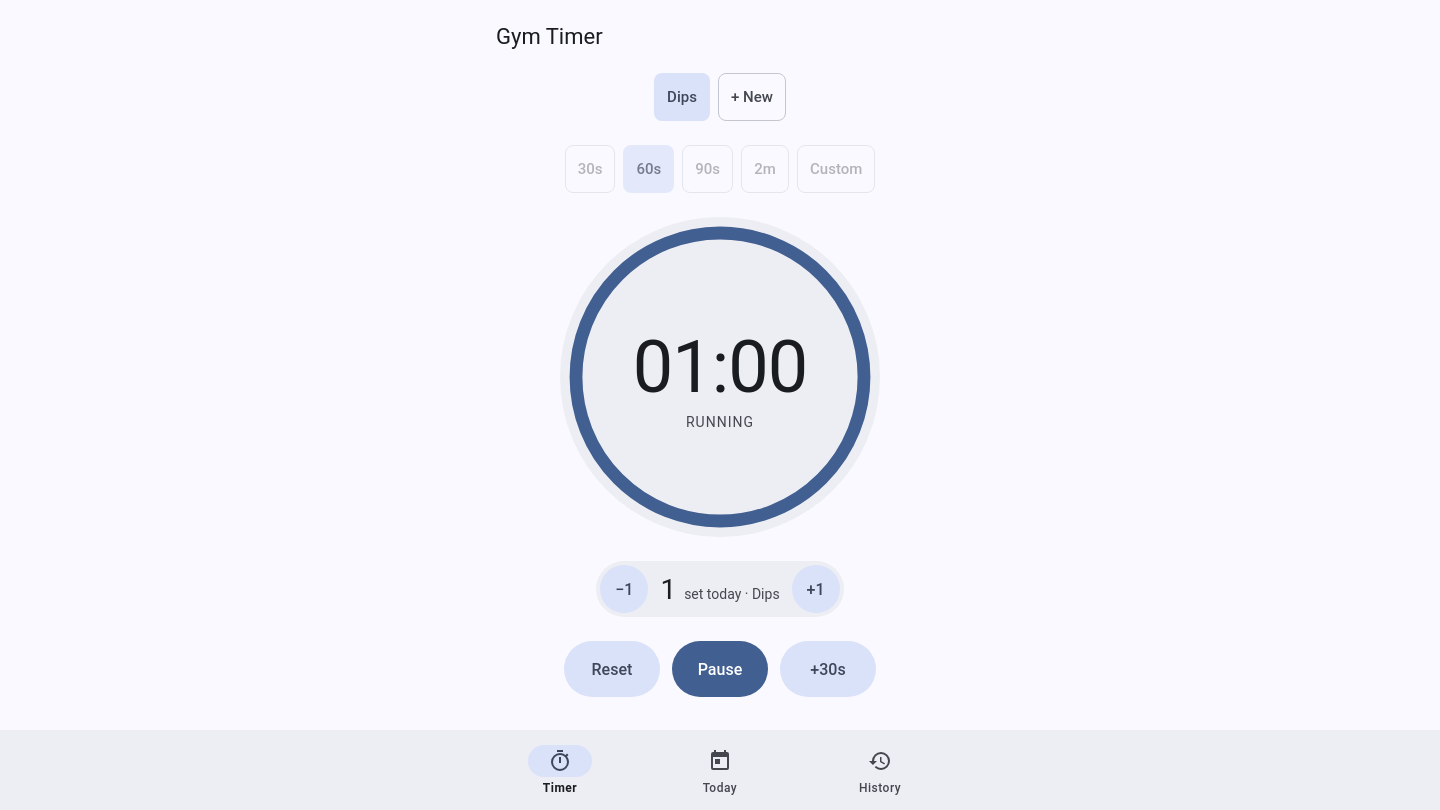
it: Today › updates live after Start on the Timer tab and after +1 / -1
The image size is (1440, 810).
Earlier steps of the test are not shown.
Click the button named "Add a set": (816, 589) [792,565,840,613]
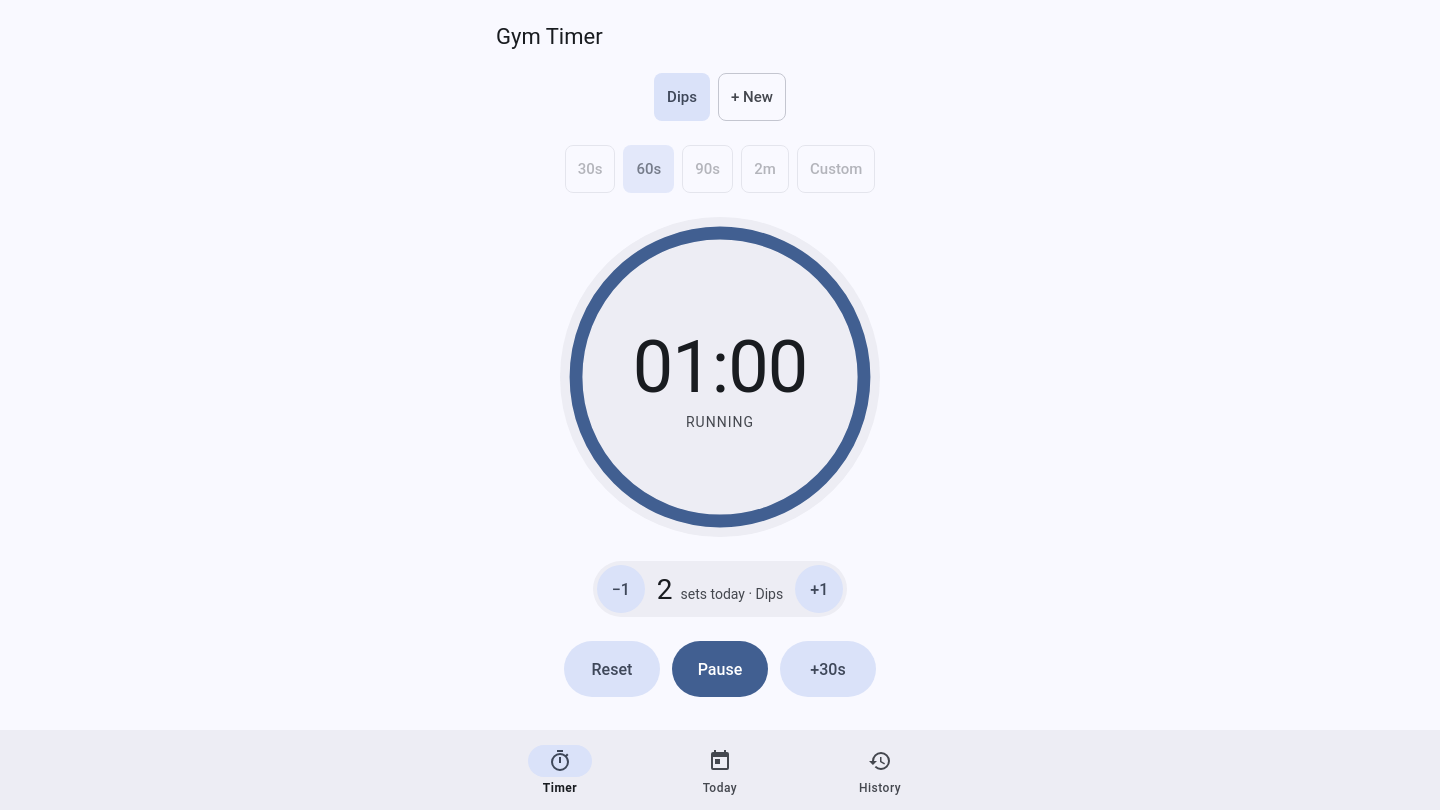
Click the button "Today": (720, 770) [640,730,800,809]
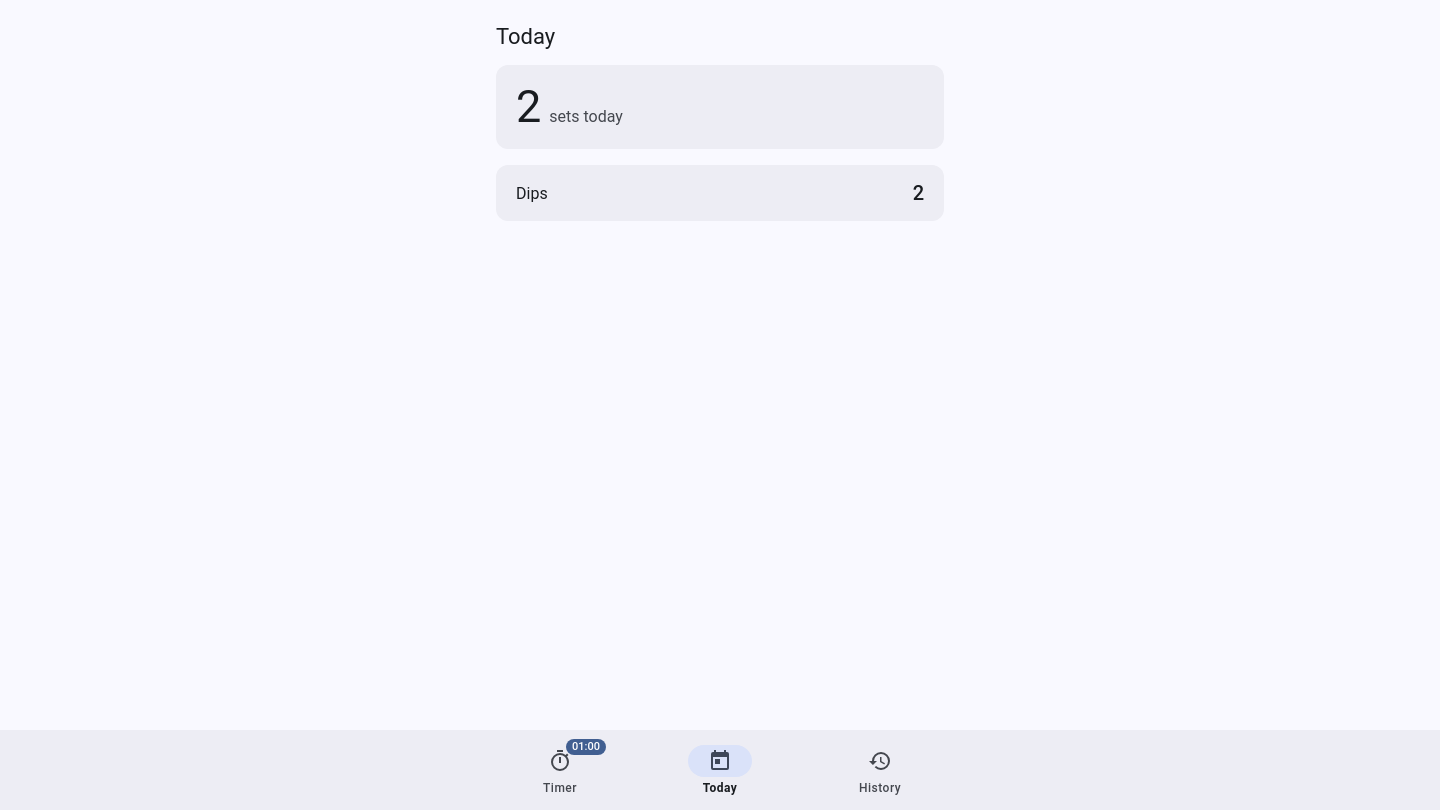
Now the text with class "total__count" reads "2", box [516,80,541,133]
Click the button "01:00 Timer": (560, 770) [480,730,640,809]
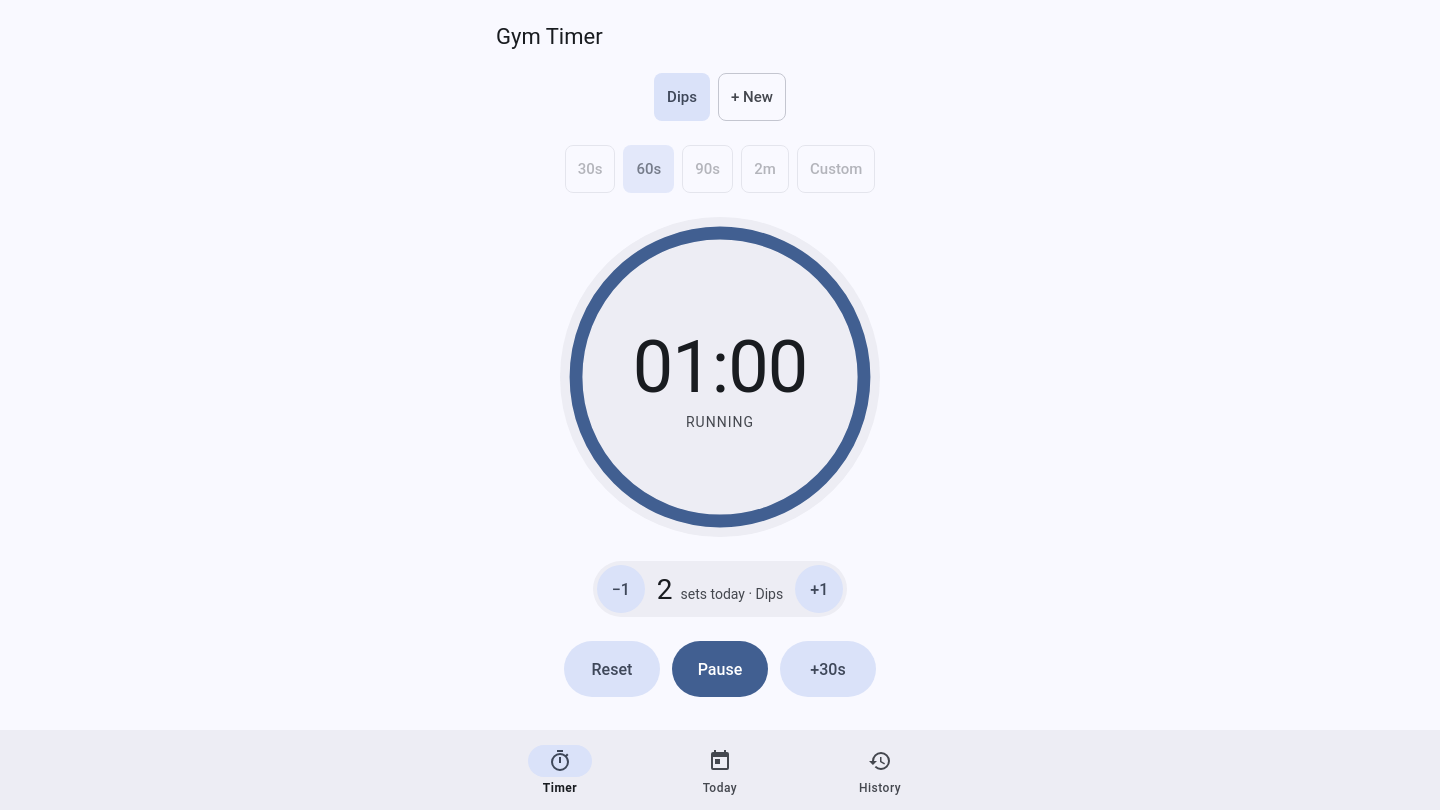
Click the button named "Remove a set": (621, 589) [597,565,645,613]
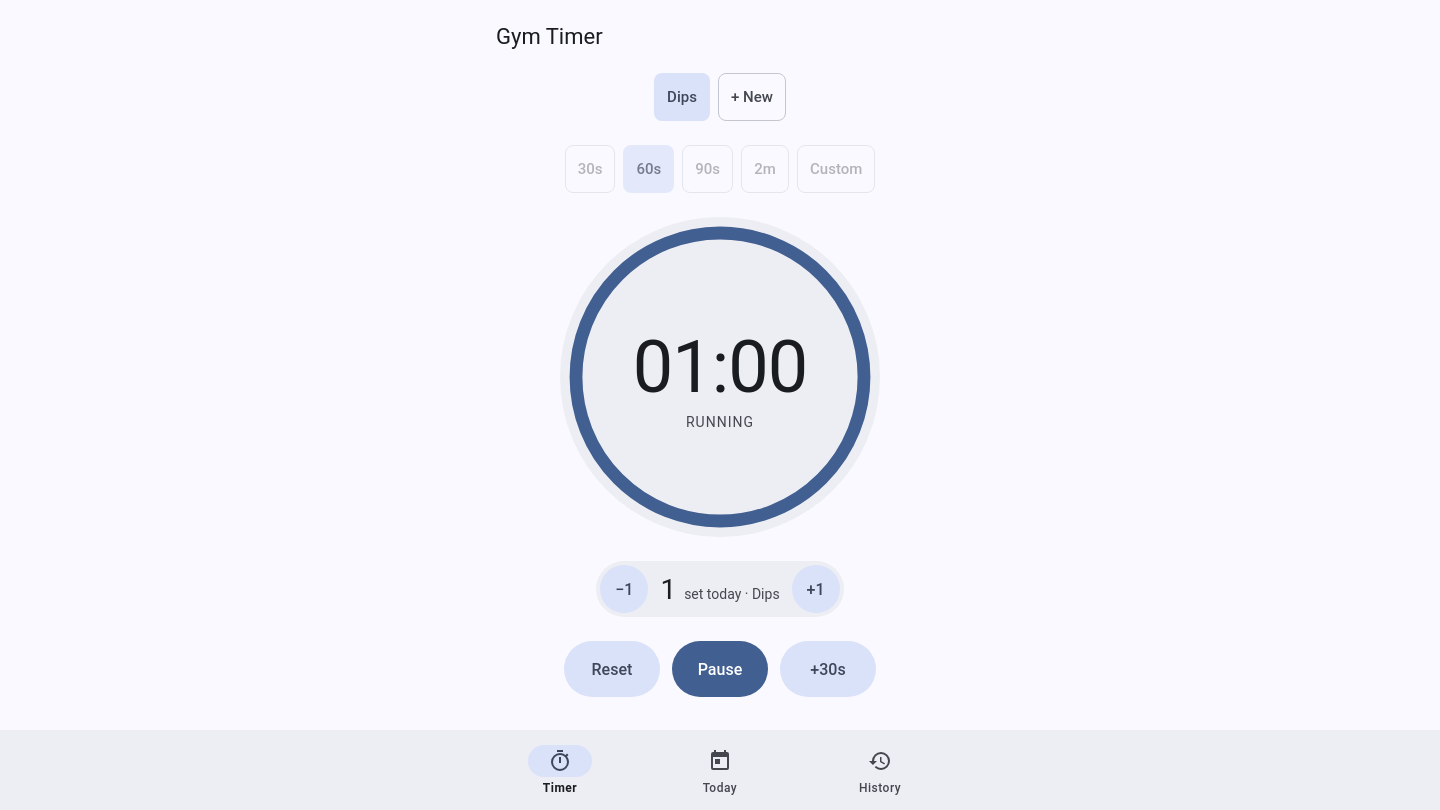
Click the button named "Remove a set": (624, 589) [600,565,648,613]
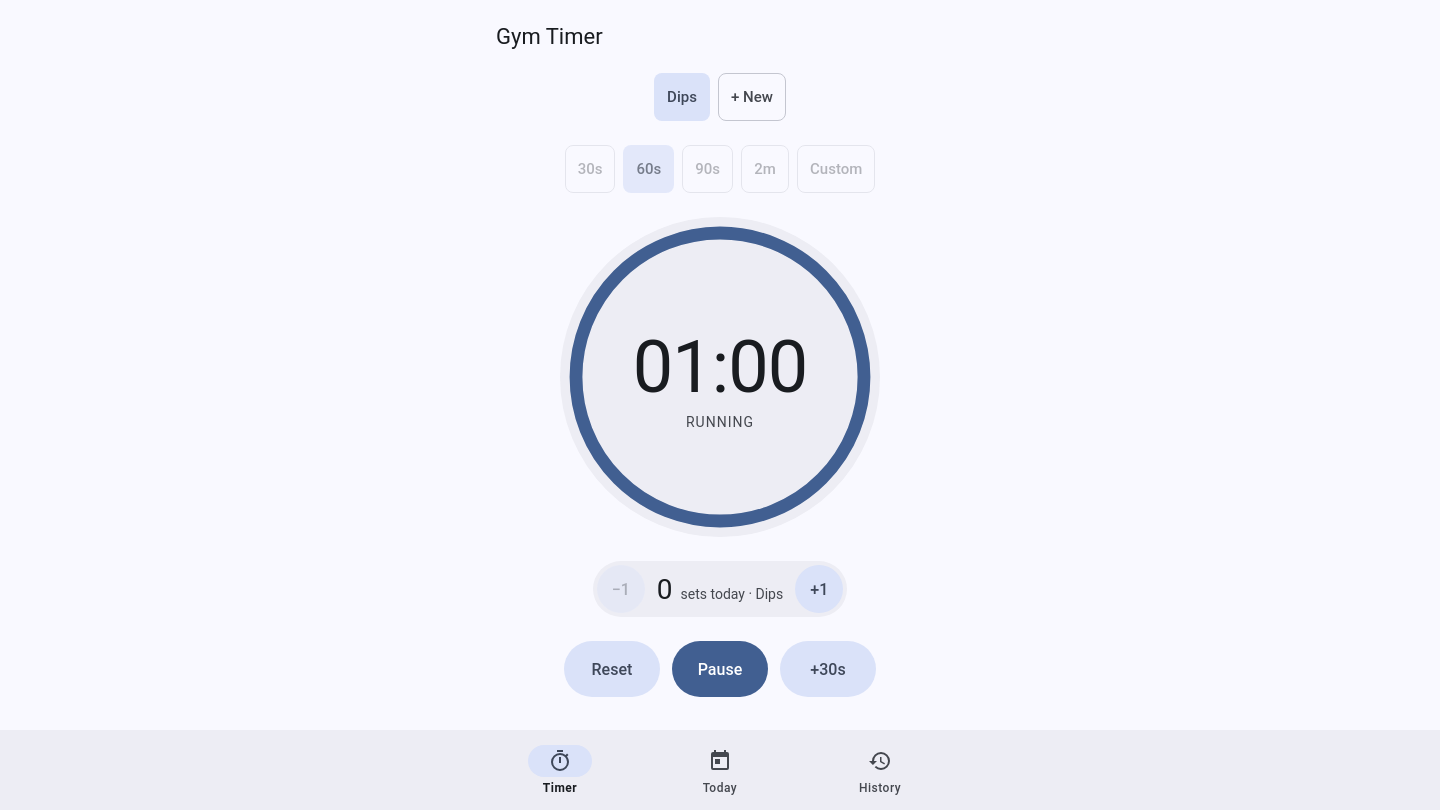
Click the button "Today": (720, 770) [640,730,800,809]
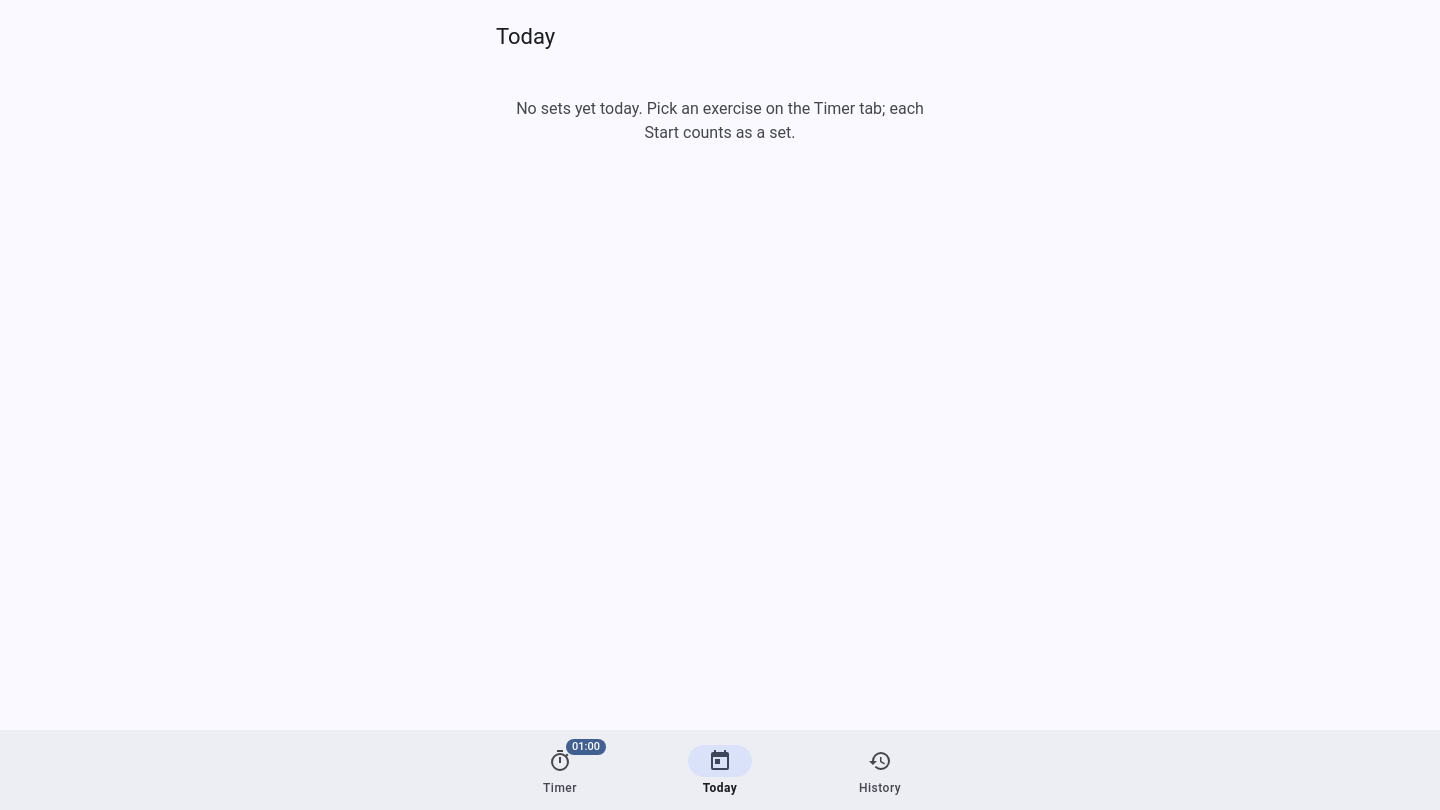
Now the text "No sets yet today" is shown, box [516,99,924,142]
